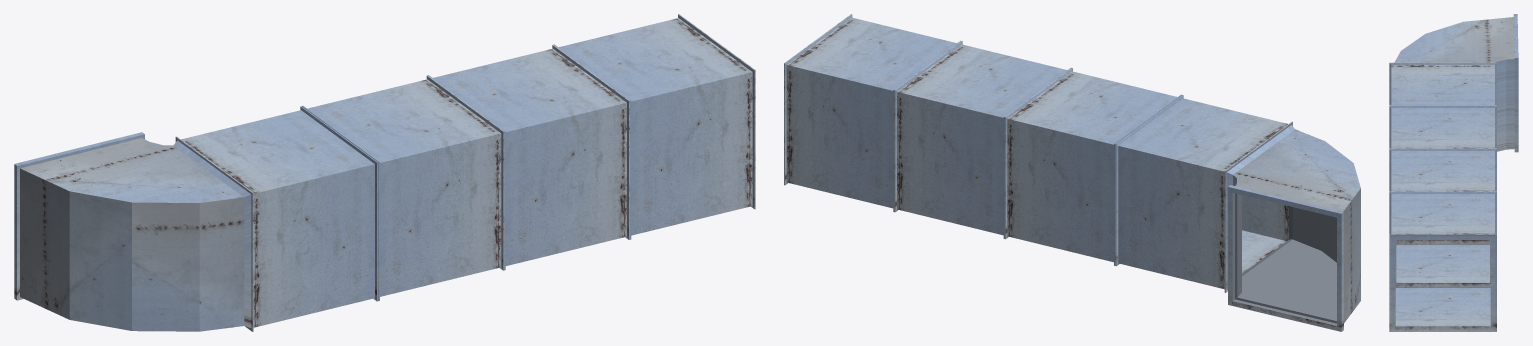
Rendered from SQUARE_TOP.glb.
3 views of the same model, side by side, from view 1: azimuth 30°, elevation 25°; view 2: azimuth 150°, elevation 25°; view 3: azimuth 270°, elevation 25° (orthographic). The views are drawn at different scales.
Parts seen in each view (by area): view 1: SQUARE TOP; view 2: SQUARE TOP; view 3: SQUARE TOP.
Part boxes in pixels (x1,y1,x2,y2): SQUARE TOP: (14,14,755,331); SQUARE TOP: (784,14,1360,331); SQUARE TOP: (1389,14,1518,331).
Size of the model in its own units: 25.6 by 5.23 by 6.29.
Materials: 1 (1 with a texture image).
